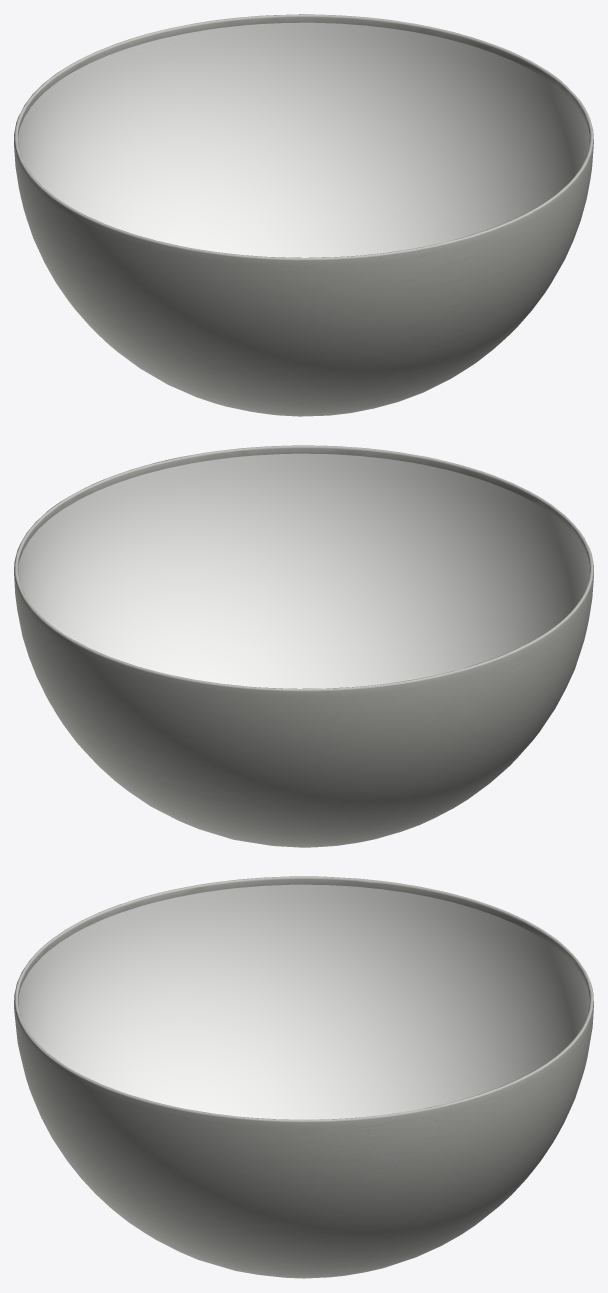
File: blanda_blank_miska_50057254.glb
The picture shows the model from 3 angles, top to bottom: view 1: azimuth 30°, elevation 25°; view 2: azimuth 150°, elevation 25°; view 3: azimuth 270°, elevation 25°; orthographic projection.
Visible parts, largest first — view 1: blanda_blank_miska_50057254; view 2: blanda_blank_miska_50057254; view 3: blanda_blank_miska_50057254.
Part boxes in pixels (x1,y1,x2,y2): blanda_blank_miska_50057254: (14,14,593,416); blanda_blank_miska_50057254: (14,445,593,847); blanda_blank_miska_50057254: (14,876,593,1278).
Size of the model in its own units: 0.2801 by 0.1301 by 0.2802.
Materials: 2 (2 with a texture image).
